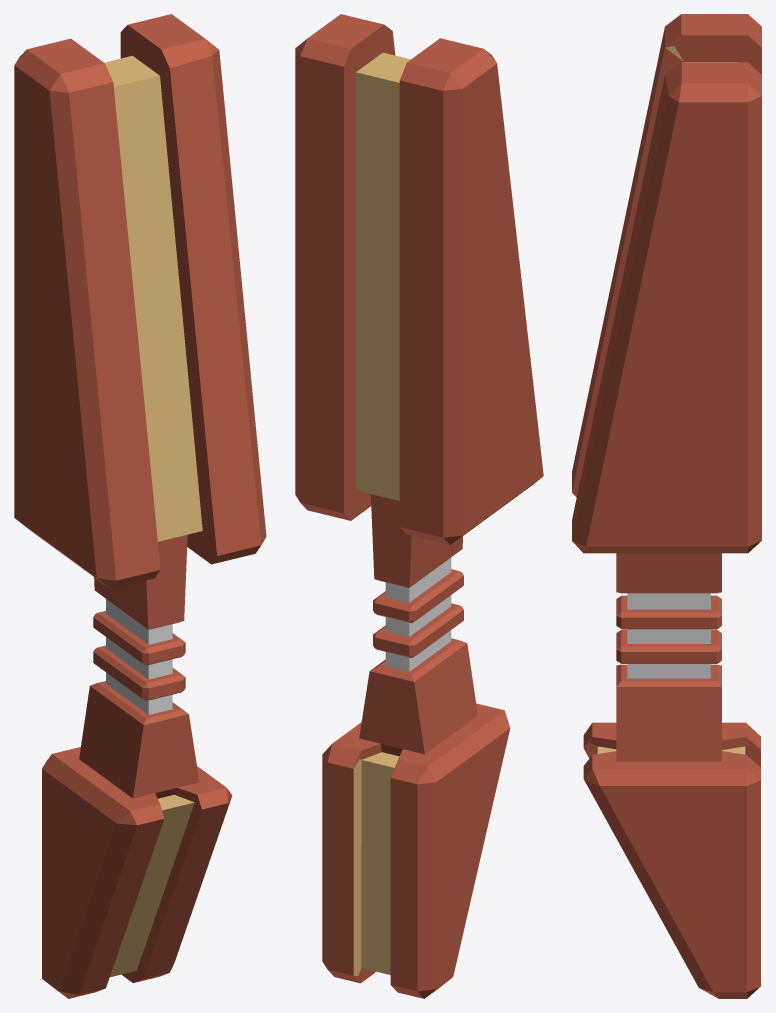
The model's file is Facade.fbx.
3 views of the same model, side by side, from view 1: azimuth 30°, elevation 25°; view 2: azimuth 150°, elevation 25°; view 3: azimuth 270°, elevation 25° (orthographic).
Visible parts, largest first — view 1: Cube; view 2: Cube; view 3: Cube.
Part boxes in pixels (x1,y1,x2,y2): Cube: [14, 14, 266, 998]; Cube: [295, 14, 543, 998]; Cube: [572, 14, 761, 998].
Size of the model in its own units: 1500 by 7986 by 1480.
